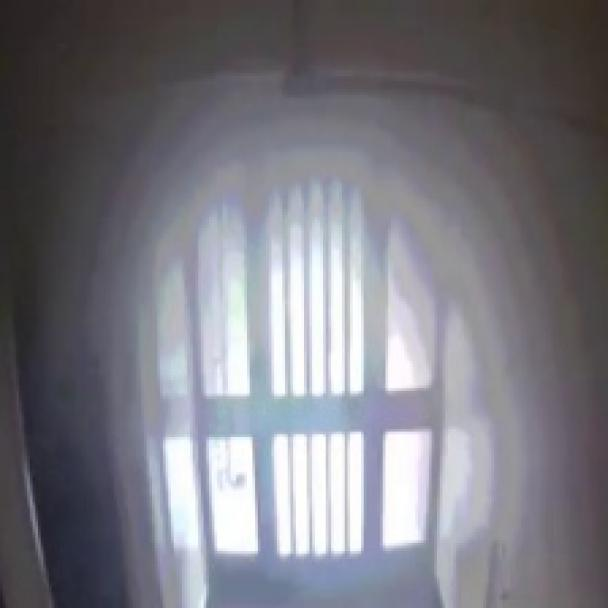smoke: (138, 47, 574, 372)
